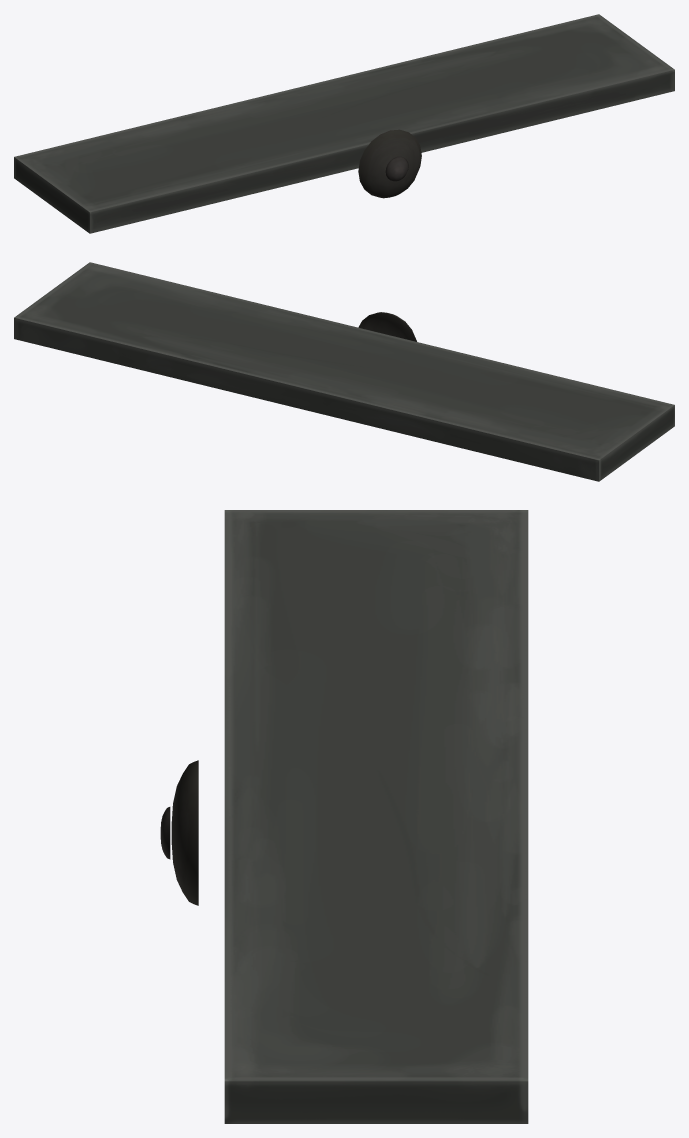
The model's file is Rotating_Panel.fbx.
3 renders of one model, top to bottom at view 1: azimuth 30°, elevation 25°; view 2: azimuth 150°, elevation 25°; view 3: azimuth 270°, elevation 25°, orthographic. The views are drawn at different scales.
Visible parts, largest first — view 1: pCube2, pSphere1, pSphere2; view 2: pCube2, pSphere1; view 3: pCube2, pSphere1.
Boxes of the visible parts, x1,y1,x2,y2 form: pCube2: (14,14,674,233); pSphere1: (358,129,421,198); pSphere2: (385,156,408,181); pCube2: (14,262,674,481); pSphere1: (358,312,416,341); pCube2: (224,510,528,1123); pSphere1: (171,760,198,905).
Bounding box in the file's own units: 51.51 × 5.6 × 14.02.
